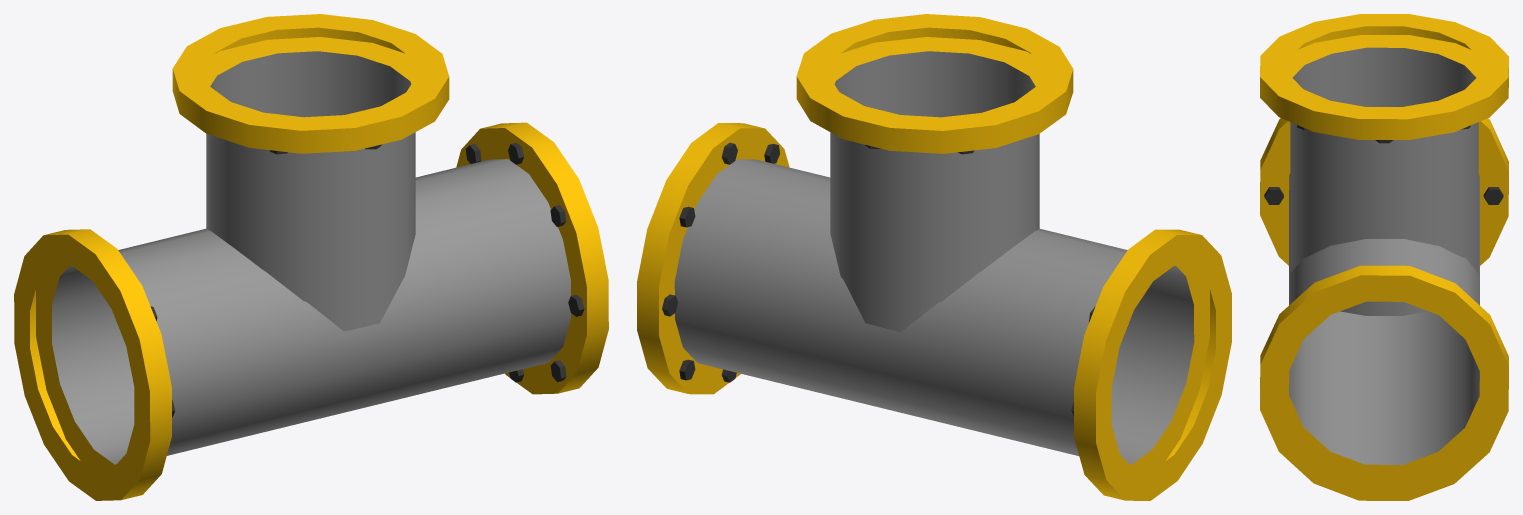
The model's file is pipe tri.fbx.
The picture shows the model from 3 angles, left to right: view 1: azimuth 30°, elevation 25°; view 2: azimuth 150°, elevation 25°; view 3: azimuth 270°, elevation 25°; orthographic projection. The views are drawn at different scales.
Visible parts, largest first — view 1: Tri_Pipe; view 2: Tri_Pipe; view 3: Tri_Pipe.
Part boxes in pixels (x1=…): Tri_Pipe: x1=14, y1=14, x2=608, y2=500; Tri_Pipe: x1=637, y1=14, x2=1231, y2=500; Tri_Pipe: x1=1260, y1=14, x2=1508, y2=500.
Size of the model in its own units: 62.82 by 47.49 by 32.28.
